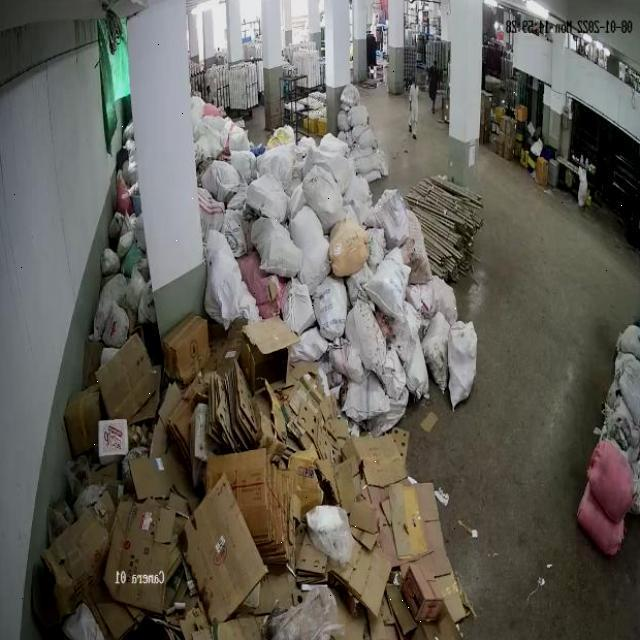person: (407, 74, 420, 140), (427, 60, 438, 113)
